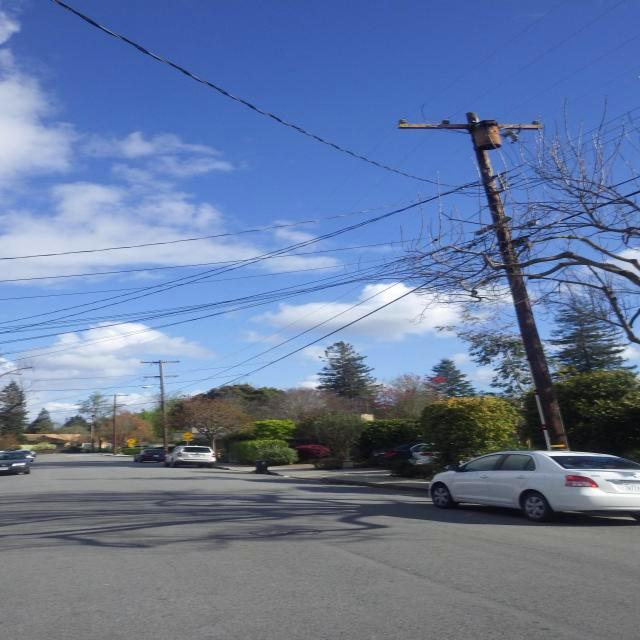crossarm: (398, 120, 544, 134)
pole: (467, 111, 569, 451)
transformer: (471, 120, 502, 150)
wire: (223, 186, 640, 384), (0, 174, 497, 329), (51, 0, 442, 185), (1, 237, 484, 347), (1, 203, 398, 260)
